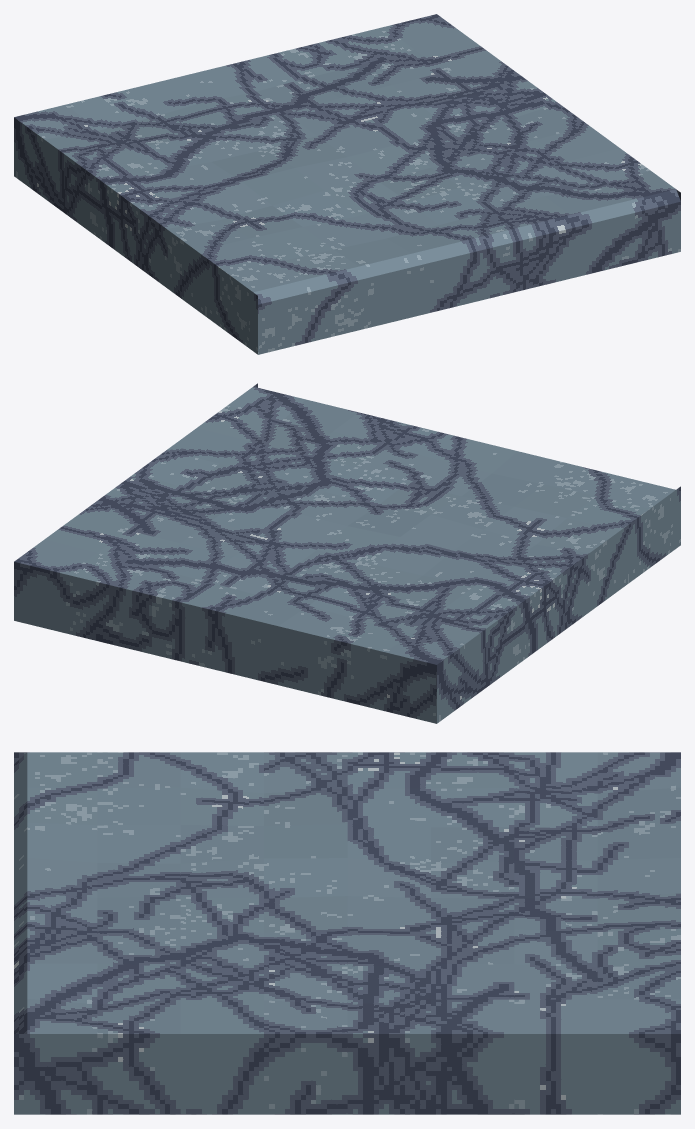
The model's file is TER-02_Losa_recta_c.gltf.
3 views of the same model, one above another, from view 1: azimuth 30°, elevation 25°; view 2: azimuth 150°, elevation 25°; view 3: azimuth 270°, elevation 25° (orthographic). The views are drawn at different scales.
Parts seen in each view (by area): view 1: TER-02_Losa_recta_c-col; view 2: TER-02_Losa_recta_c-col; view 3: TER-02_Losa_recta_c-col.
Part boxes in pixels (x1,y1,x2,y2): TER-02_Losa_recta_c-col: (14,14,680,354); TER-02_Losa_recta_c-col: (14,383,680,723); TER-02_Losa_recta_c-col: (14,752,680,1114).
Bounding box in the file's own units: 3 × 0.4 × 3.
1 material, 1 textured.
